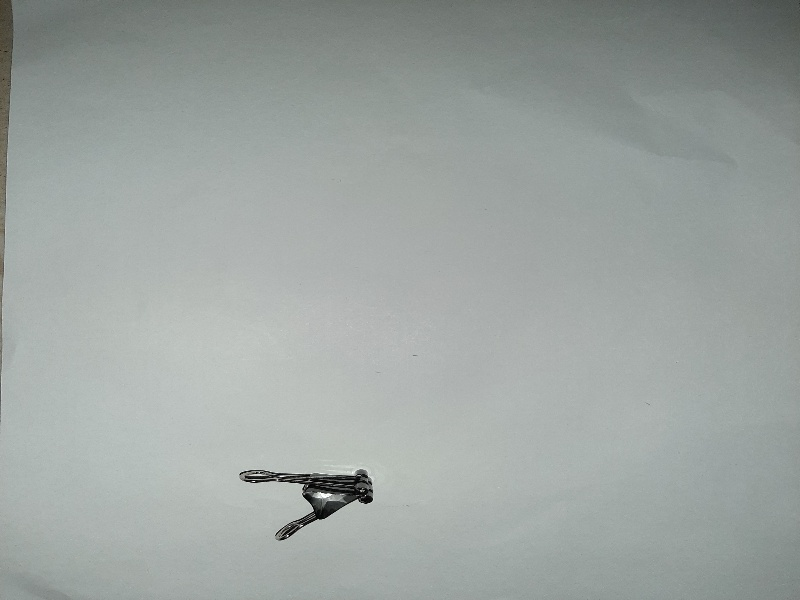Big Paperclip: (233, 458, 378, 546)
